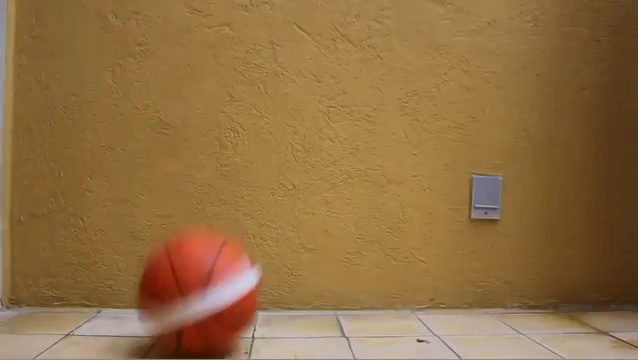ball: (137, 225, 262, 360)
